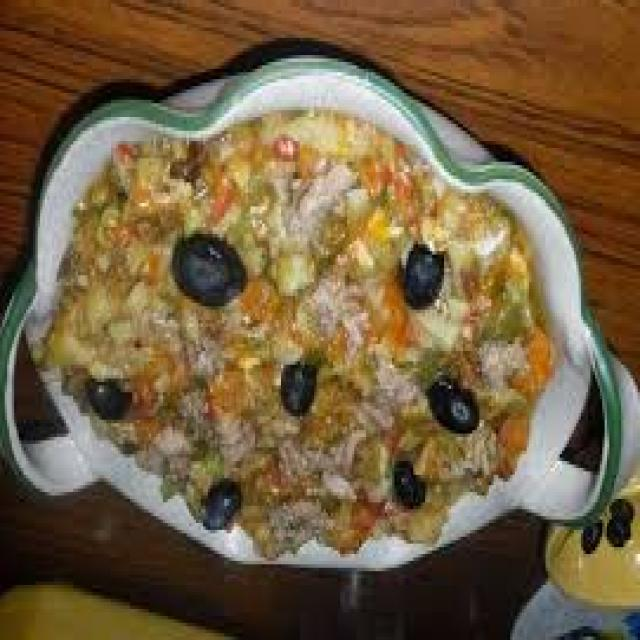Kafteji: (35, 111, 554, 558)
